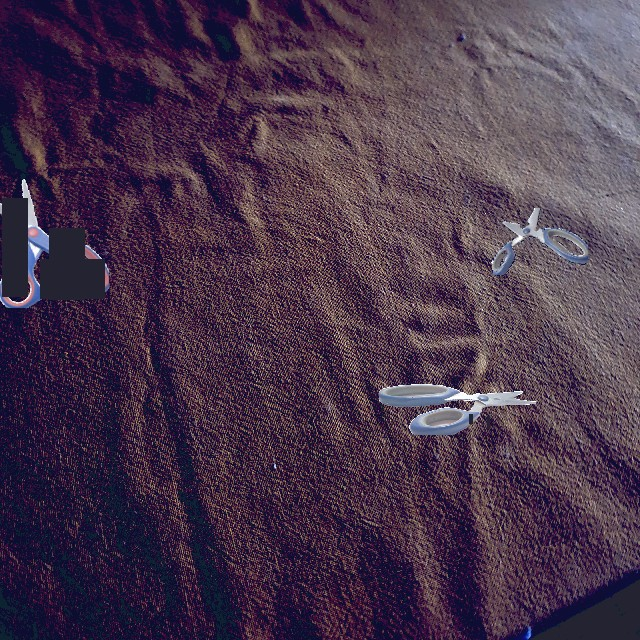scissors: (0, 179, 109, 308), (379, 384, 536, 435), (485, 208, 588, 275)
